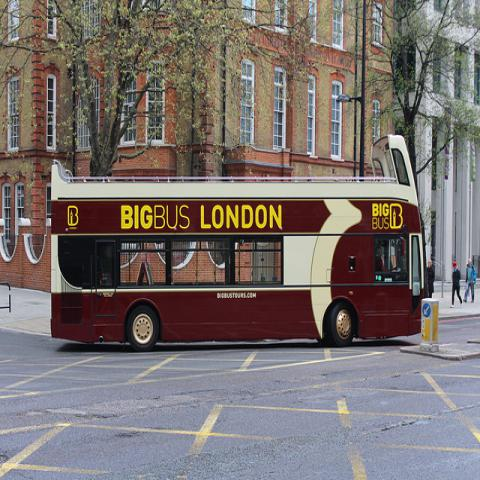bus: (51, 137, 433, 349)
